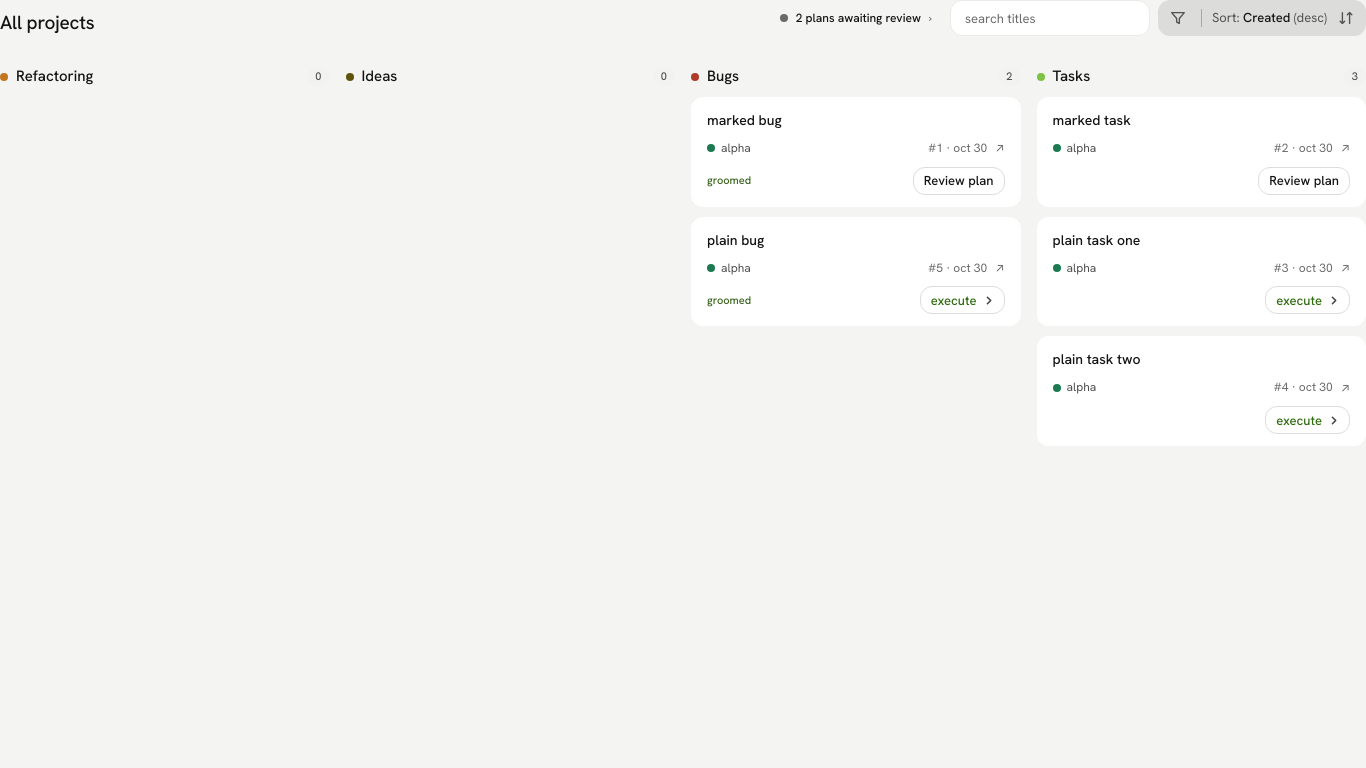
Test case: BoardView plan-review filter › with Status Done it is honestly empty, and says so
This screenshot has width=1366, height=768.
Click the button with test id "plan-review-chip": {"x": 856, "y": 18} [770,2,942,34]
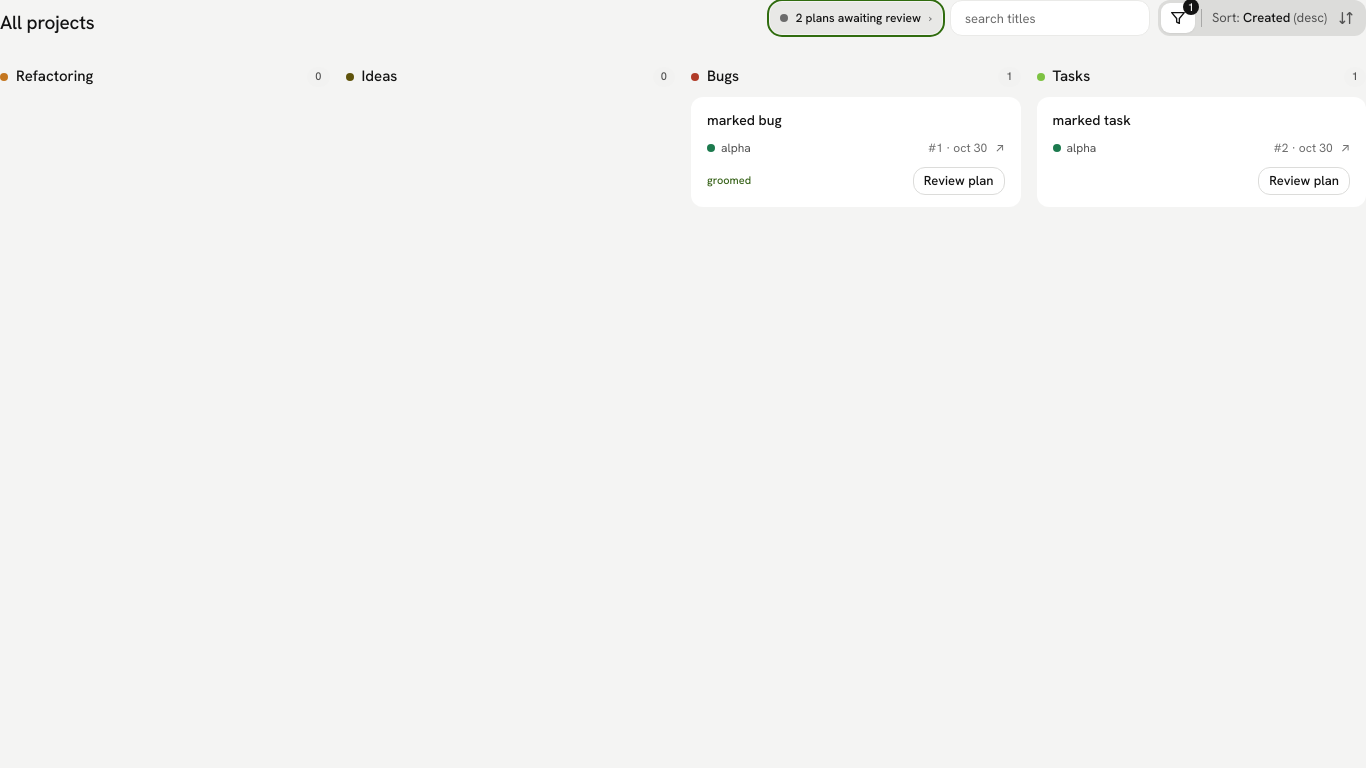
Click the button named "Filters": {"x": 1178, "y": 18} [1161,3,1195,33]
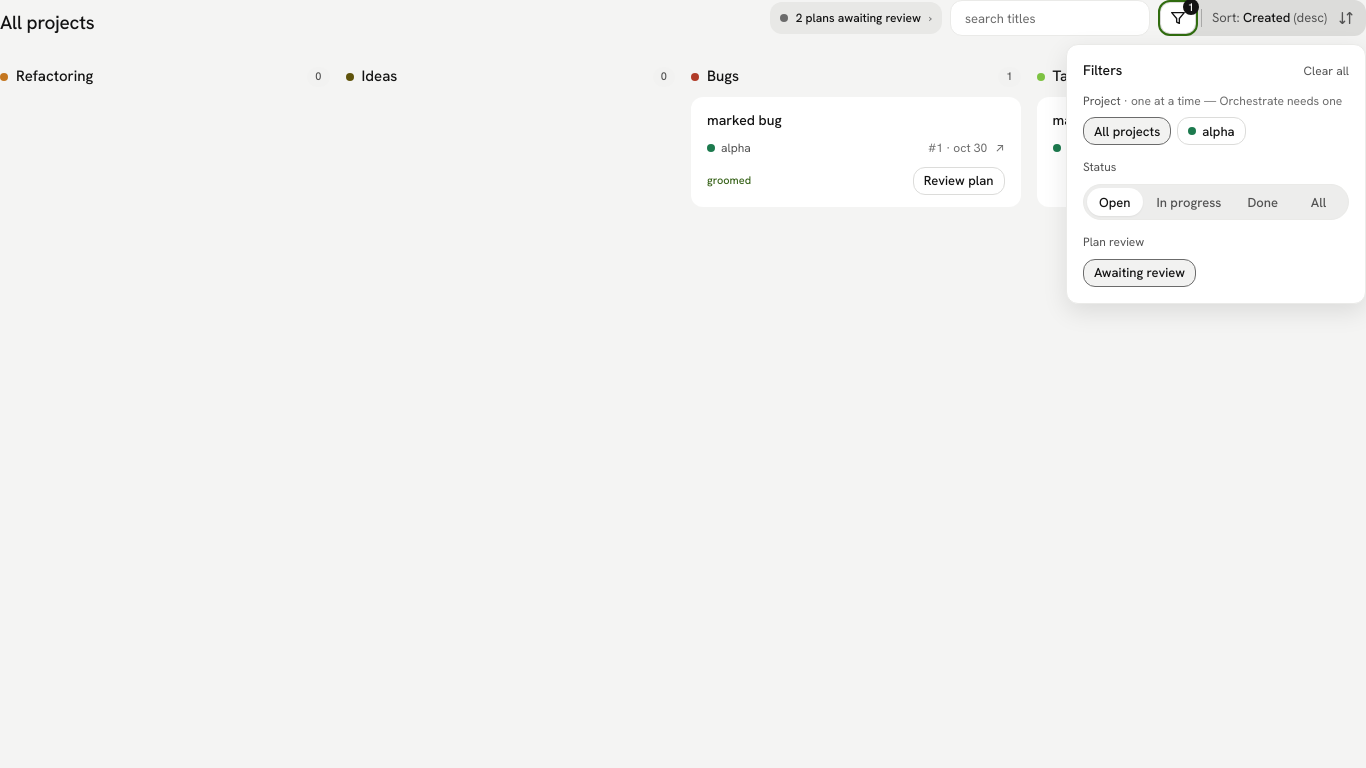
Click the button "Done": {"x": 1263, "y": 202} [1236,188,1290,216]
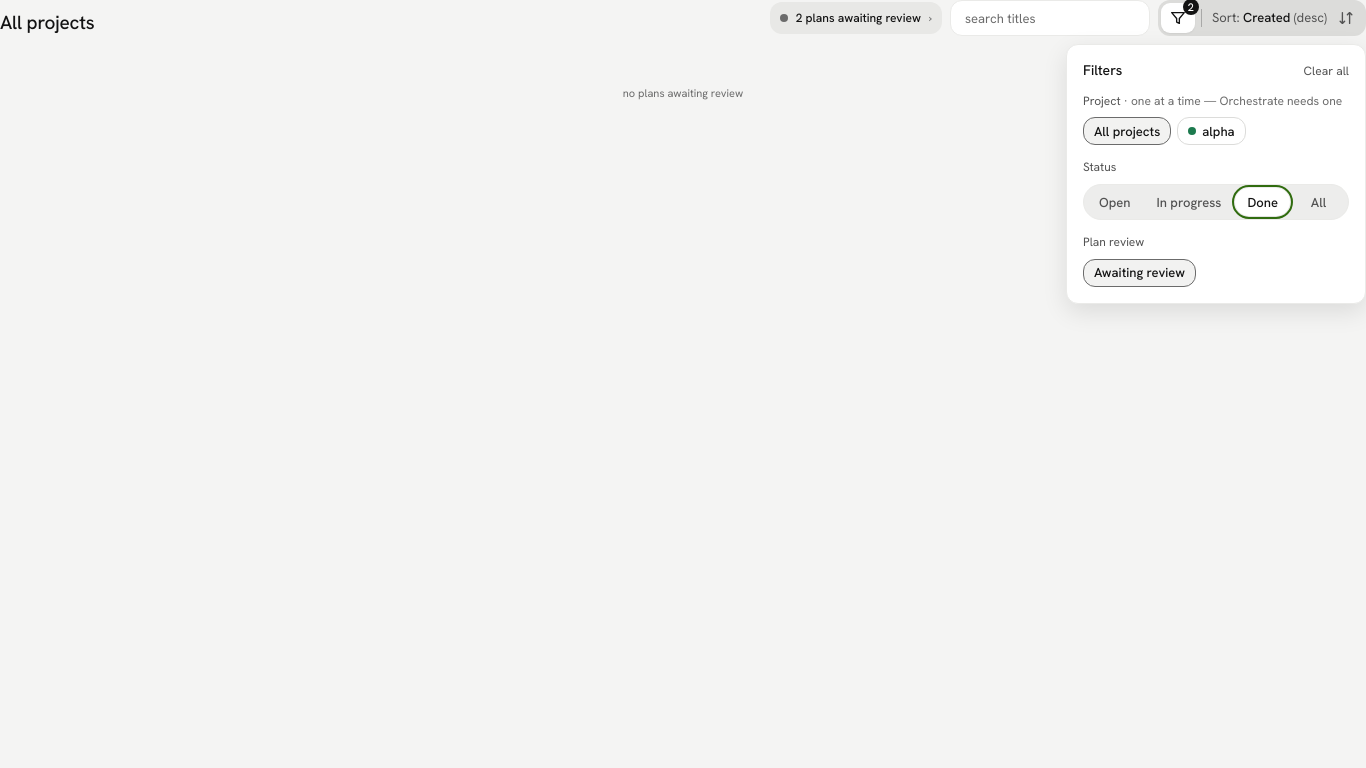
Expected: the text "no plans awaiting review" is shown, [623,86,743,100]
Expected: the button named "Filters, 2 set" is shown, [1161,3,1195,33]
